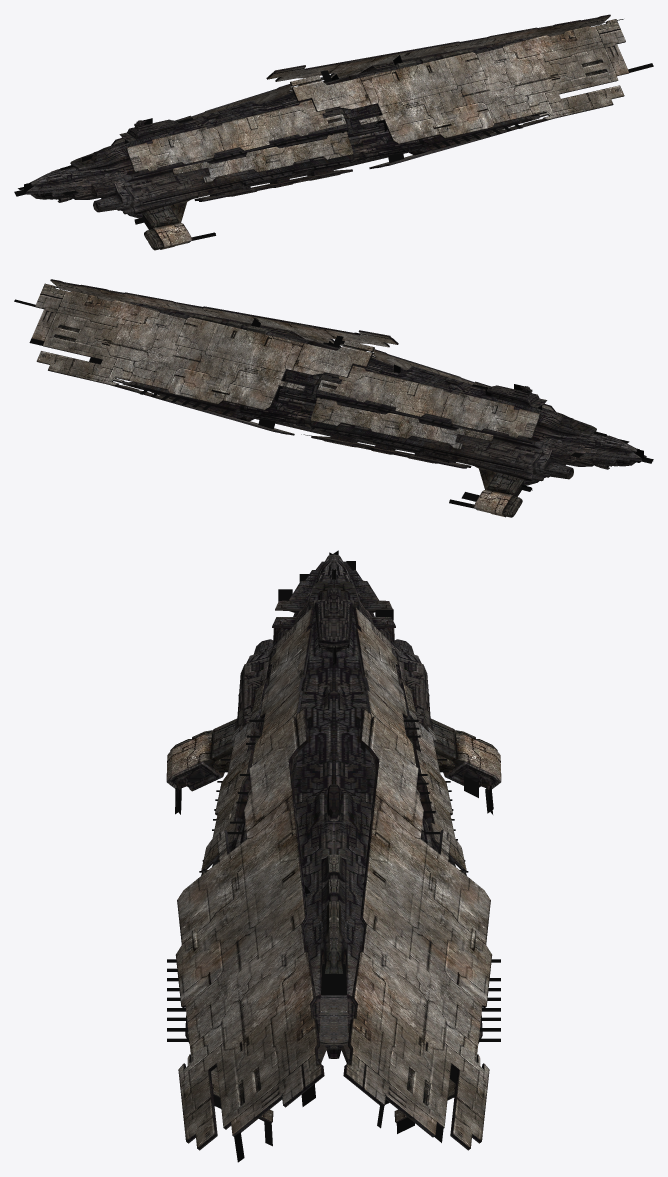
Rendered from MDH.FBX.
The picture shows the model from 3 angles, top to bottom: view 1: azimuth 30°, elevation 25°; view 2: azimuth 150°, elevation 25°; view 3: azimuth 270°, elevation 25°; orthographic projection. The views are drawn at different scales.
Visible parts, largest first — view 1: shape33; view 2: shape33; view 3: shape33.
Part boxes in pixels (x1,y1,x2,y2): shape33: (14, 14, 653, 250); shape33: (14, 279, 653, 517); shape33: (166, 550, 501, 1162).
Size of the model in its own units: 4268 by 998 by 706.
1 material, 1 textured.
